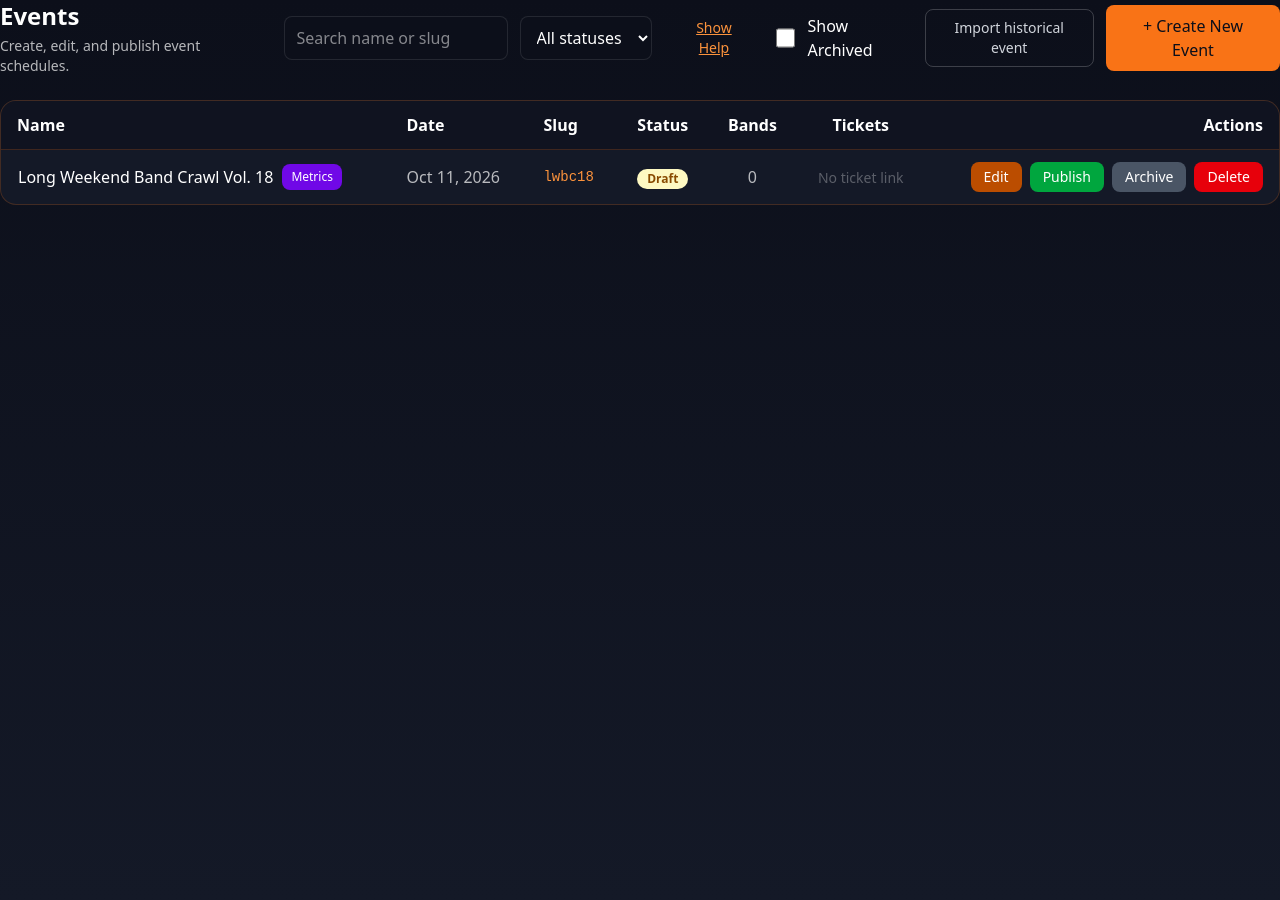
EventsTab + EventFormModal — partial save when publishing fails (#825) › keeps the modal open and reports the reason when publishing throws
Click the button "Edit". click: (996, 177)
box: [971,162,1022,192]
(page scrolled)
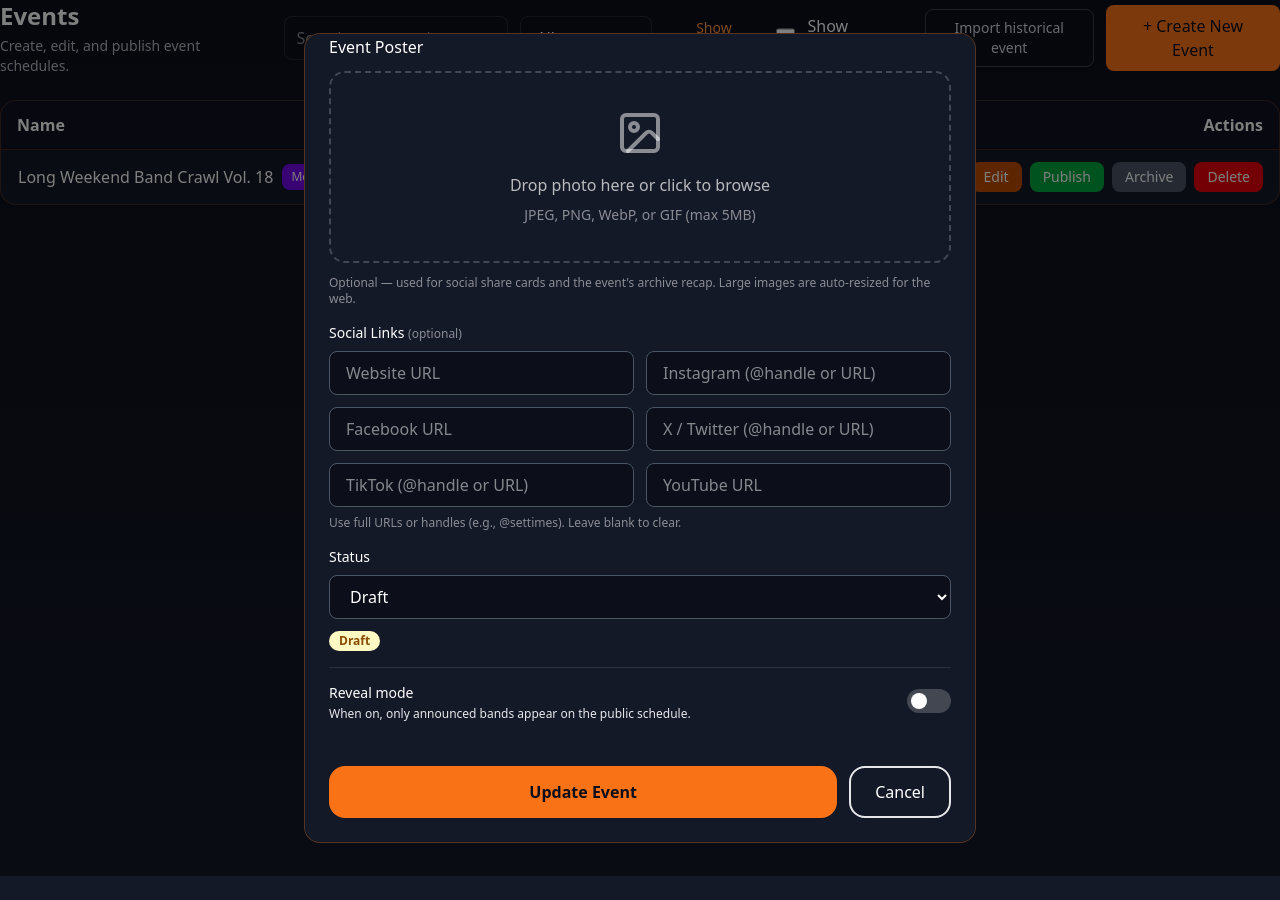
Select "Published" in the dropdown labelled "Status". click: (640, 597)
box: [329,575,951,619]
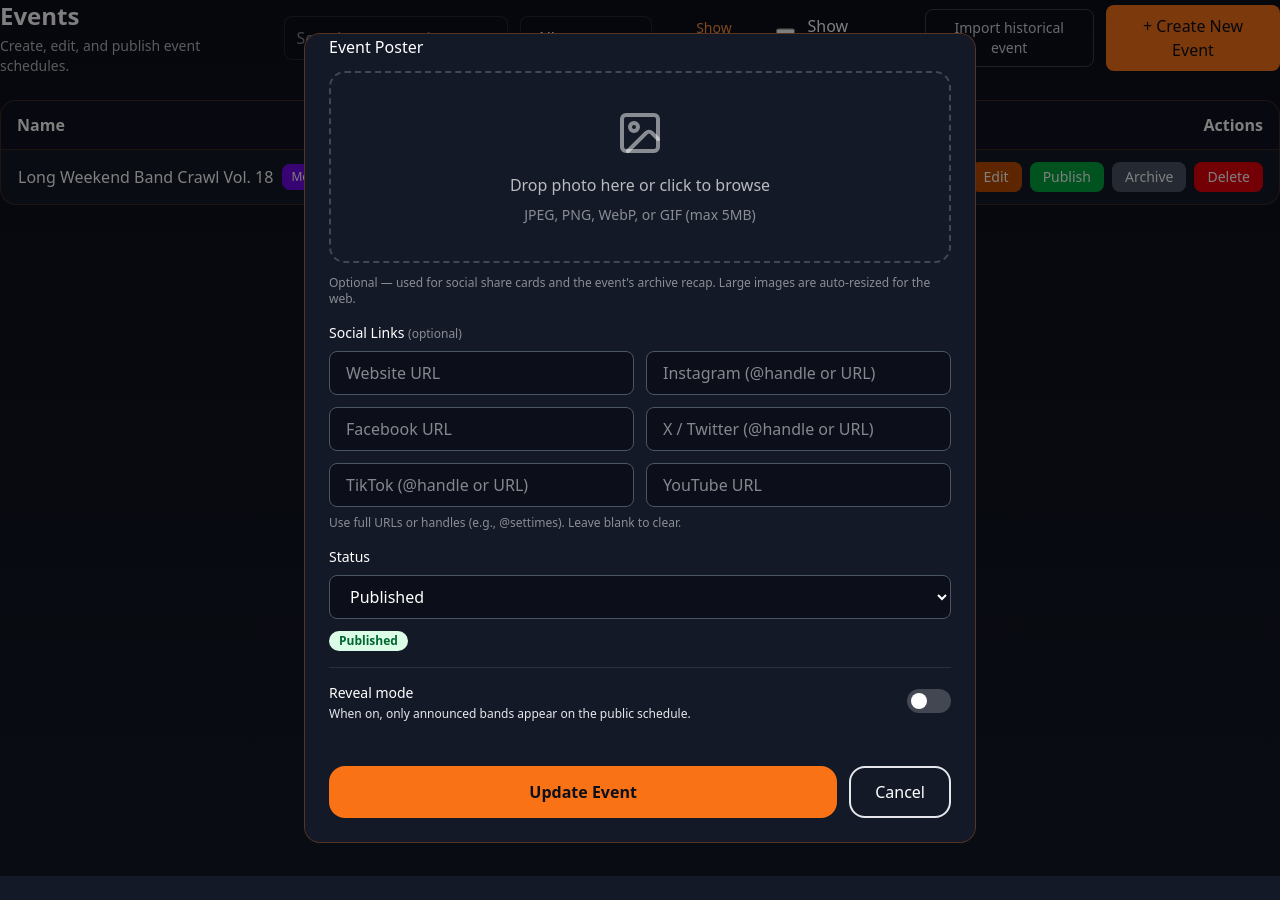
Click the button "Update Event". click: (583, 792)
box: [329,766,837,818]
(page scrolled)
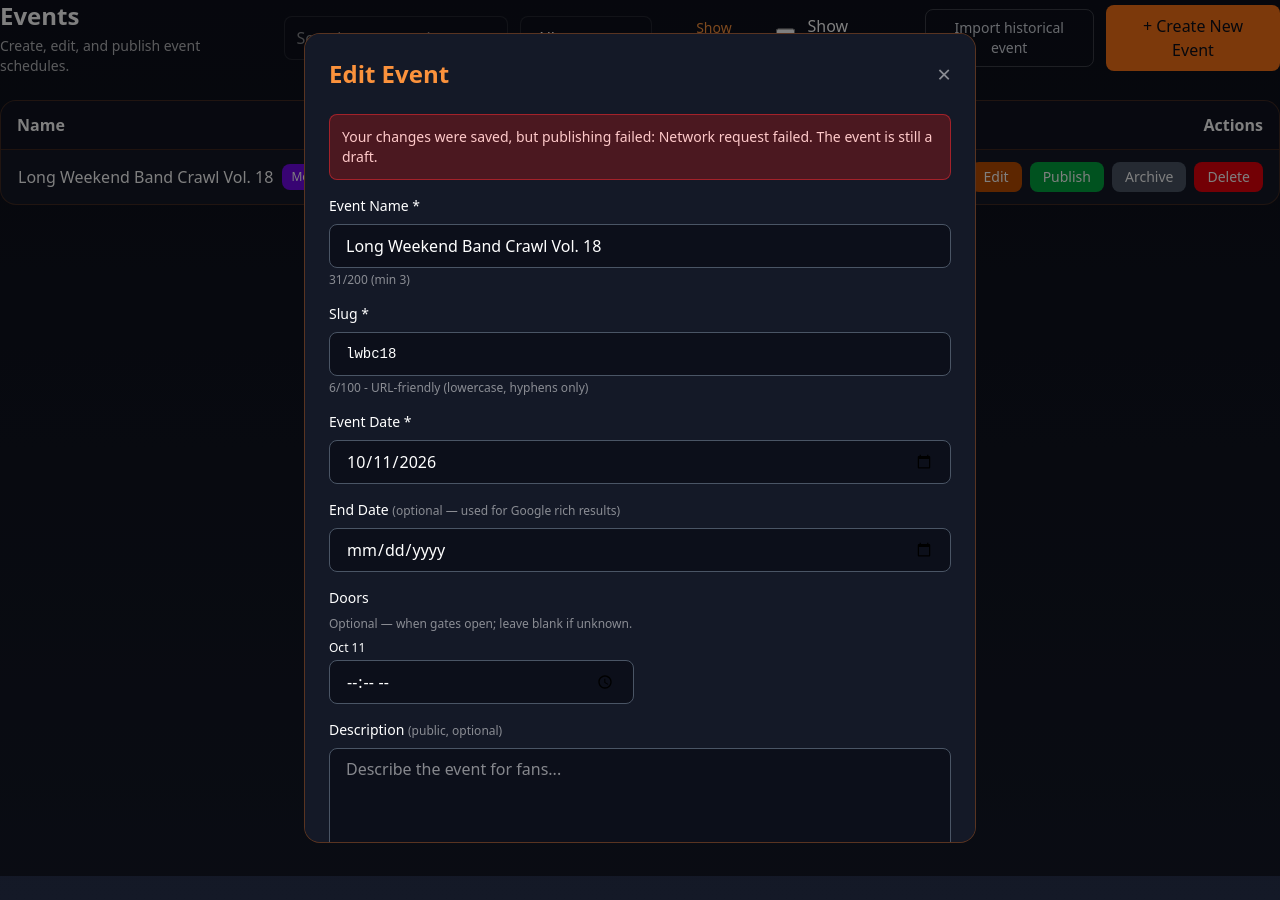
Expected: the text "publishing failed" shows "Network request failed", [342,127,932,166]
Expected: the text "publishing failed" shows "saved", [342,127,932,166]
